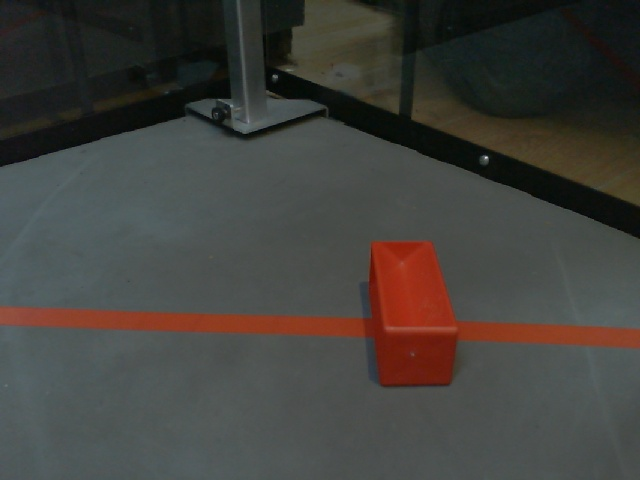RedSample: (367, 237, 459, 386)
